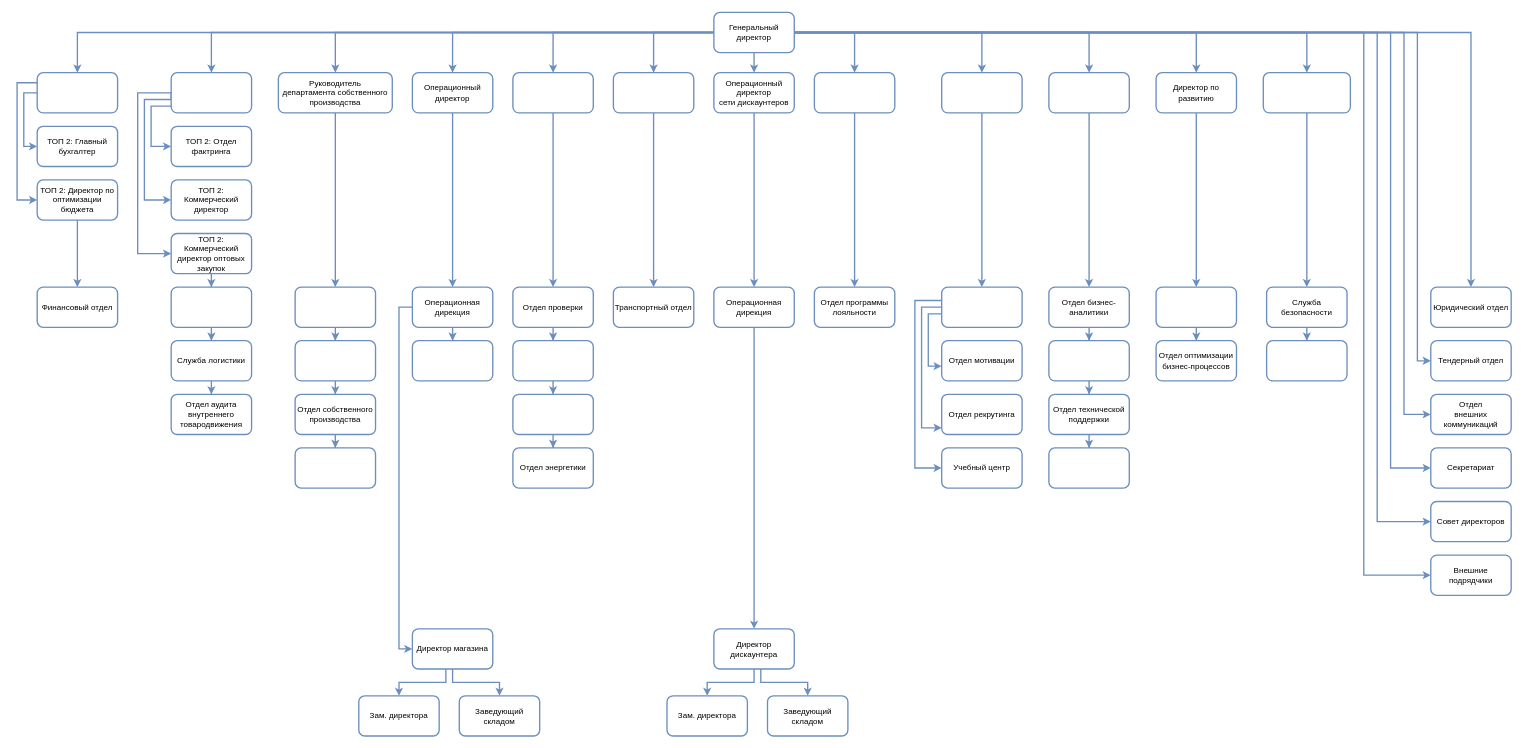
Image size: 1523x748. Some labels were removed from this diagram. The centre of each missing label's shape, as x and y in pixels:
Директор по IT: (x=1089, y=92)
Директор по персоналу: (x=981, y=92)
Директор по эксплуатации: (x=553, y=92)
Директор программы лояльности: (x=854, y=92)
Кондитерский цех: (x=335, y=467)
Контрольно-ревизионный отдел: (x=1306, y=360)
ООО «Тетра-логистик»: (x=653, y=92)
Отдел автоматизации: (x=1089, y=360)
Отдел кадров: (x=981, y=307)
Отдел капитального строительства: (x=553, y=360)
Отдел мерчендайзинга: (x=452, y=360)
Отдел развития: (x=1196, y=307)
Отдел системного администрирования: (x=1089, y=467)
Отдел централизации: (x=211, y=307)
Отдел эксплуатации: (x=553, y=414)
Первый заместитель ген. директора: (x=211, y=92)
Производственный отдел: (x=335, y=360)
Руководитель службы безопасности: (x=1306, y=92)
Технологический отдел: (x=335, y=307)
ТОП 1. Заместитель ген. директора: (x=77, y=92)
